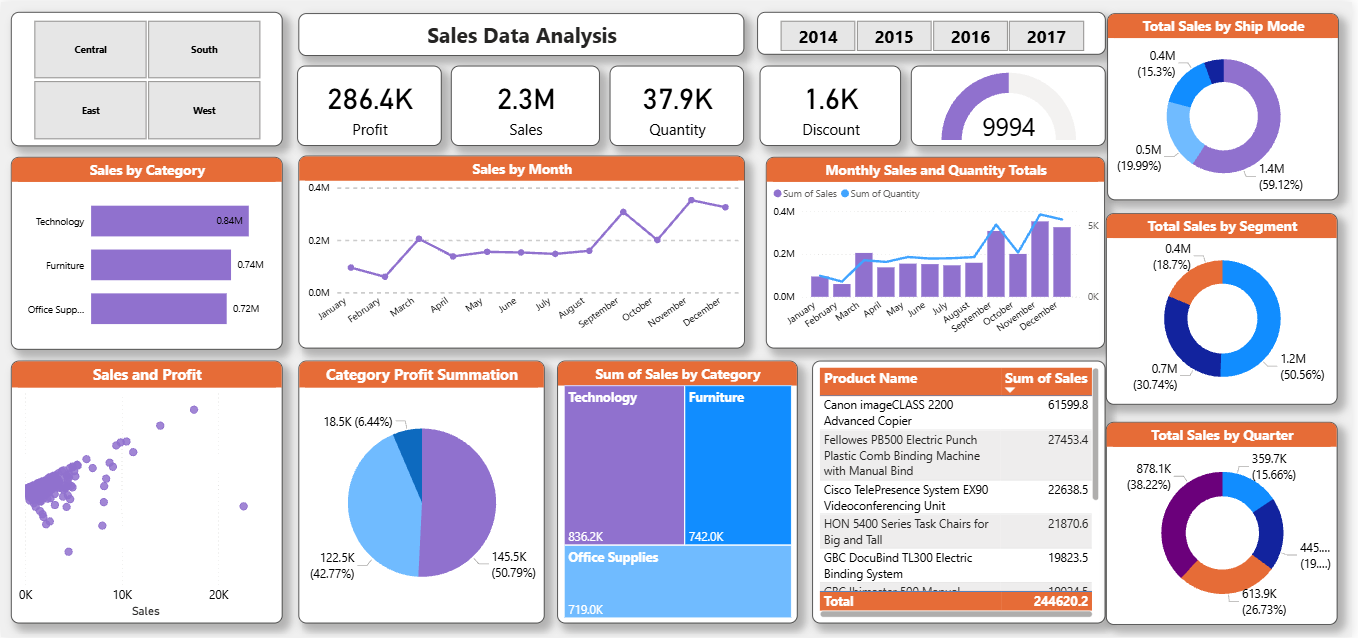

The dashboard page shown, as its layout file describes it:
{"tool":"powerbi","page":{"name":"Dashboard","canvas":[1700,800],"ordinal":1},"visuals":[{"type":"slicer","fields":{"Values":["sample_superstore_Order.Region"]},"box":[12.6,12.6,341.6,169],"z":0},{"type":"textbox","box":[373.9,14.4,560.9,53.9],"z":1000},{"type":"slicer","fields":{"Values":["sample_superstore_Order.Order Date.Variation.Date Hierarchy.Year"]},"box":[951,12.6,438.7,53.9],"z":2000},{"type":"card","fields":{"Values":["Sum(sample_superstore_Order.Profit)"]},"box":[372.1,80.9,181.6,100.7],"z":3000},{"type":"card","fields":{"Values":["Sum(sample_superstore_Order.Sales)"]},"box":[566.3,80.9,187,100.7],"z":4000},{"type":"card","fields":{"Values":["Sum(sample_superstore_Order.Quantity)"]},"box":[765.8,80.9,169,100.7],"z":5000},{"type":"card","fields":{"Values":["Sum(sample_superstore_Order.Discount)"]},"box":[954.6,80.9,178,100.7],"z":6000},{"type":"gauge","fields":{"Y":["CountNonNull(sample_superstore_Order.Row ID)"]},"box":[1145.2,80.9,244.5,100.7],"z":7000},{"type":"barChart","title":"Sales by Category","fields":{"Category":["sample_superstore_Order.Category"],"Y":["Sum(sample_superstore_Order.Sales)"]},"box":[12.6,195,341.3,242.2],"z":8000},{"type":"lineChart","title":"Sales by Month","fields":{"Category":["sample_superstore_Order.Order Date.Variation.Date Hierarchy.Month"],"Y":["Sum(sample_superstore_Order.Sales)"]},"box":[374.4,193.5,561.5,242.2],"z":9000},{"type":"lineStackedColumnComboChart","title":"Monthly Sales and Quantity Totals","fields":{"Category":["sample_superstore_Order.Order Date.Variation.Date Hierarchy.Month"],"Y":["Sum(sample_superstore_Order.Sales)"],"Y2":["Sum(sample_superstore_Order.Quantity)"]},"box":[962.5,194.9,426,241.1],"z":11000},{"type":"scatterChart","fields":{"X":["Sum(sample_superstore_Order.Sales)"],"Y":["Sum(sample_superstore_Order.Profit)"]},"box":[12.6,451.2,341.6,330.8],"z":12000},{"type":"pieChart","title":"Category Profit Summation","fields":{"Category":["sample_superstore_Order.Category"],"Y":["Sum(sample_superstore_Order.Profit)"]},"box":[373.9,451.2,309.2,330.8],"z":13000},{"type":"treemap","fields":{"Group":["sample_superstore_Order.Category"],"Values":["Sum(sample_superstore_Order.Sales)"]},"box":[699.3,451.2,302,330.8],"z":14000},{"type":"tableEx","fields":{"Values":["sample_superstore_Order.Product Name","Sum(sample_superstore_Order.Sales)"]},"box":[1021.1,451.2,368.5,330.8],"z":15000},{"type":"donutChart","title":"Total Sales by Ship Mode","fields":{"Category":["sample_superstore_Order.Ship Mode"],"Y":["Sum(sample_superstore_Order.Sales)"]},"box":[1392.6,14.1,291.4,235.1],"z":16000},{"type":"donutChart","title":"Total Sales by Segment","fields":{"Y":["Sum(sample_superstore_Order.Sales)"],"Category":["sample_superstore_Order.Segment"]},"box":[1390.5,265.2,291.4,241.1],"z":17000},{"type":"donutChart","title":"Total Sales by Quarter","fields":{"Y":["Sum(sample_superstore_Order.Sales)"],"Category":["sample_superstore_Order.Order Date.Variation.Date Hierarchy.Quarter"]},"box":[1390.5,528.5,291.4,255.2],"z":18000}]}

Visuals, with their boxes in screenshot pixels (x1, y1, x2, y2), scaled from the page's 1700x800 canvas onto the 1358x638 screenshot:
slicer - sample_superstore_Order.Region: (10,10,283,145)
textbox: (299,11,747,54)
slicer - sample_superstore_Order.Order Date.Variation.Date Hierarchy.Year: (760,10,1110,53)
card - Sum(sample_superstore_Order.Profit): (297,65,442,145)
card - Sum(sample_superstore_Order.Sales): (452,65,602,145)
card - Sum(sample_superstore_Order.Quantity): (612,65,747,145)
card - Sum(sample_superstore_Order.Discount): (763,65,905,145)
gauge - CountNonNull(sample_superstore_Order.Row ID): (915,65,1110,145)
"Sales by Category" barChart: (10,156,283,349)
"Sales by Month" lineChart: (299,154,748,347)
"Monthly Sales and Quantity Totals" lineStackedColumnComboChart: (769,155,1109,348)
scatterChart - Sum(sample_superstore_Order.Sales) x Sum(sample_superstore_Order.Profit): (10,360,283,624)
"Category Profit Summation" pieChart: (299,360,546,624)
treemap - sample_superstore_Order.Category x Sum(sample_superstore_Order.Sales): (559,360,800,624)
tableEx - sample_superstore_Order.Product Name x Sum(sample_superstore_Order.Sales): (816,360,1110,624)
"Total Sales by Ship Mode" donutChart: (1112,11,1345,199)
"Total Sales by Segment" donutChart: (1111,211,1344,404)
"Total Sales by Quarter" donutChart: (1111,421,1344,625)
